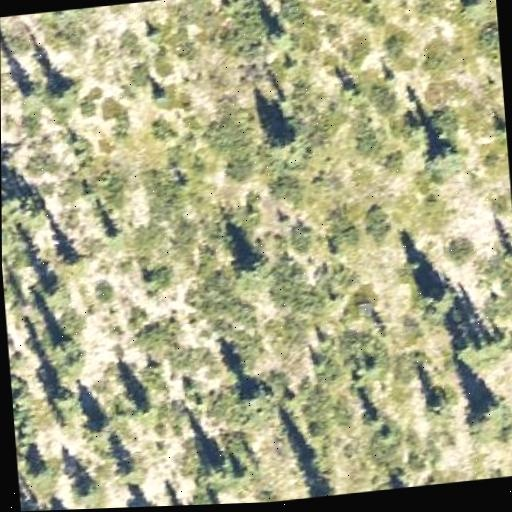tree-top: (462, 385, 512, 444), (457, 326, 507, 367), (265, 118, 308, 162), (229, 373, 273, 416), (43, 325, 83, 366), (420, 278, 460, 317), (233, 247, 270, 288), (36, 272, 73, 313), (3, 180, 42, 217), (427, 138, 465, 174), (421, 386, 456, 425), (200, 447, 236, 484), (46, 71, 81, 109), (83, 409, 117, 443), (58, 241, 93, 274), (25, 454, 58, 488), (73, 471, 105, 506), (112, 451, 145, 484), (16, 80, 47, 113), (132, 389, 162, 422), (49, 386, 79, 417), (270, 21, 295, 48), (101, 221, 126, 247), (458, 0, 490, 20), (306, 481, 343, 498), (10, 368, 27, 403), (43, 8, 82, 20), (20, 501, 53, 511), (2, 218, 8, 252), (0, 47, 5, 73)
